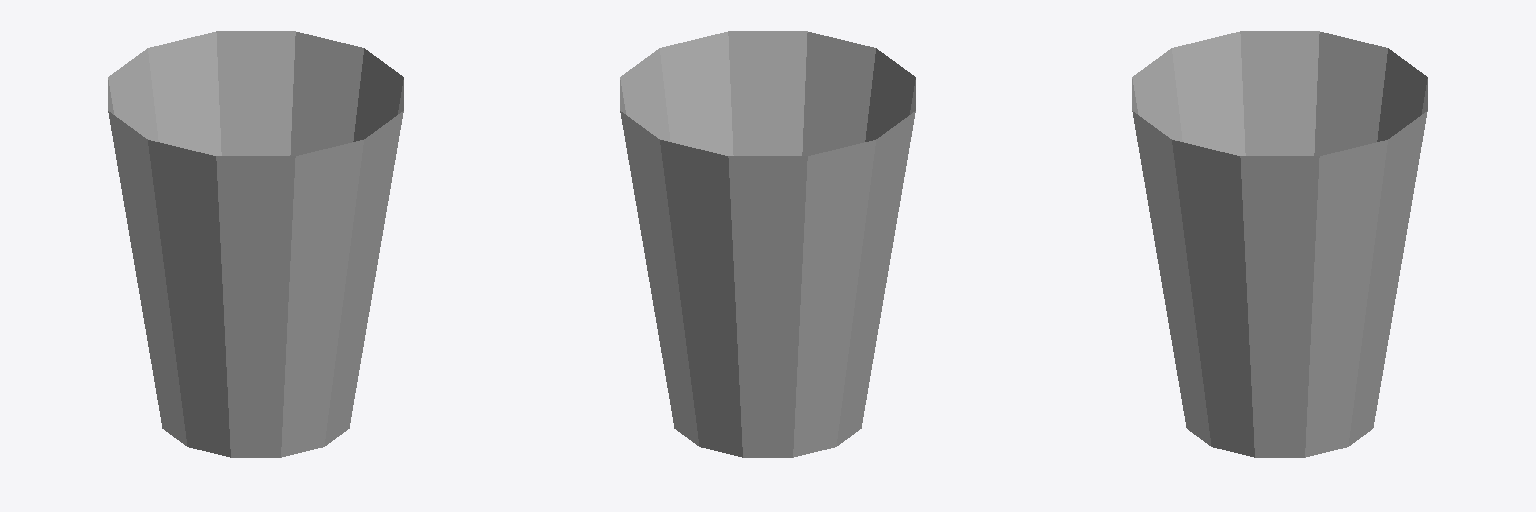
File: housesp_086.obj
The picture shows the model from 3 angles: view 1: azimuth 30°, elevation 25°; view 2: azimuth 150°, elevation 25°; view 3: azimuth 270°, elevation 25°; orthographic projection.
Size of the model in its own units: 5.58 by 6.74 by 5.57.